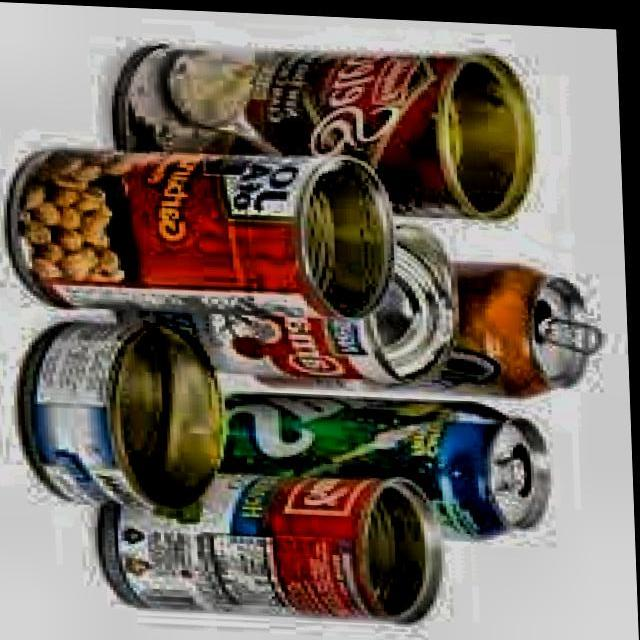Aluminum Can: (105, 28, 554, 223), (5, 138, 409, 322), (116, 200, 470, 384), (91, 460, 450, 626), (244, 242, 616, 402), (211, 385, 564, 543), (10, 309, 239, 514)
